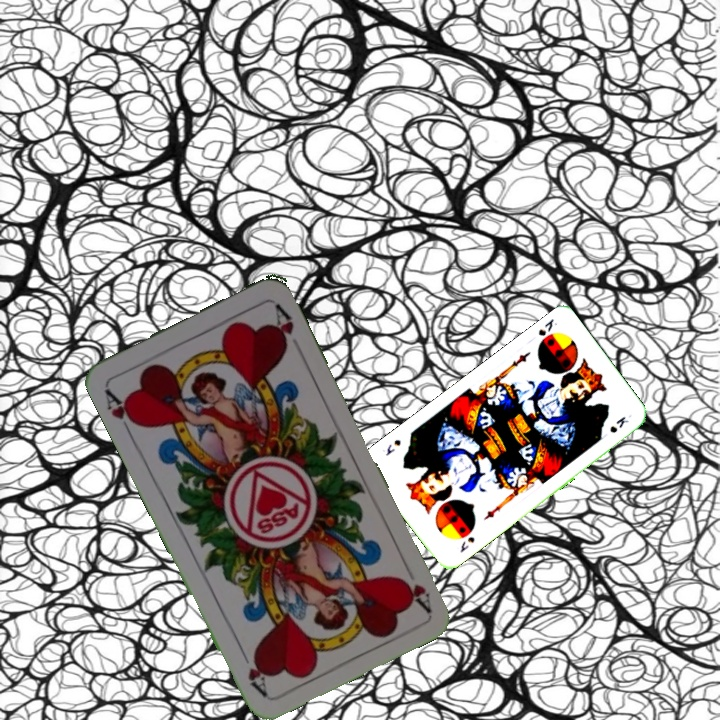HA: (100, 384, 143, 439), (397, 559, 434, 614)
SK: (534, 314, 560, 338), (456, 532, 477, 555)
